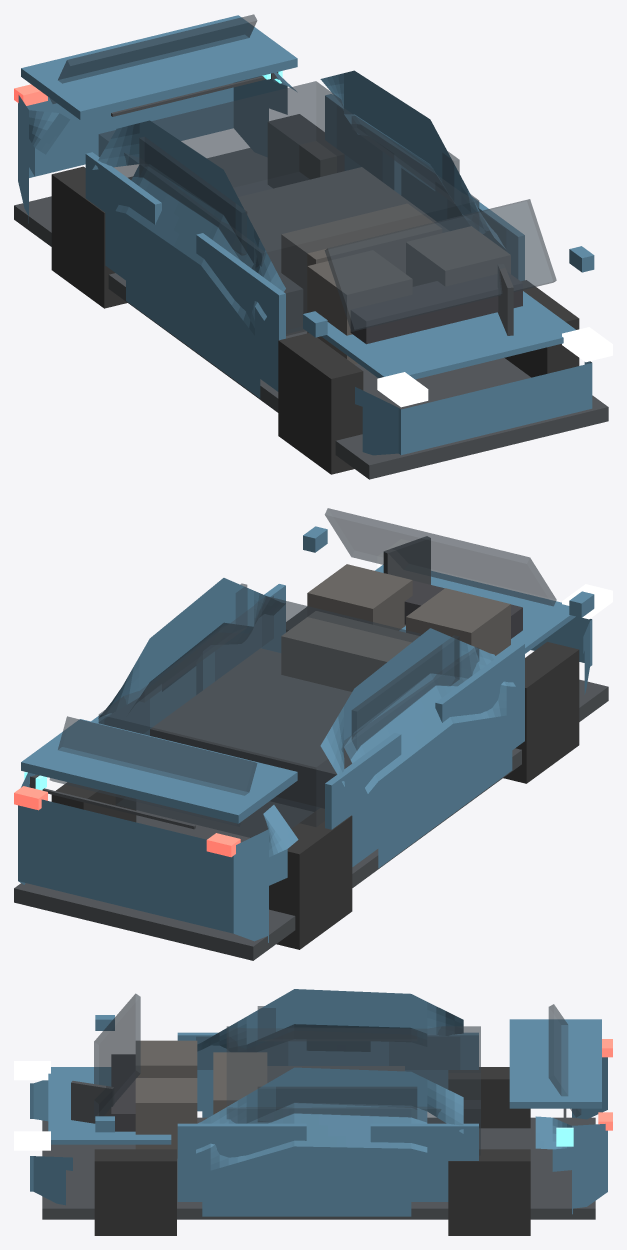
File: compact_sedan_lod.glb
3 renders of one model, top to bottom at view 1: azimuth 30°, elevation 25°; view 2: azimuth 150°, elevation 25°; view 3: azimuth 270°, elevation 25°, orthographic. The views are drawn at different scales.
Parts seen in each view (by area): view 1: body_mesh, cab_mesh, windshield, trunk_mesh, trim_mesh, frunk_mesh, tire_fr, wheel_well_mesh, seat_rear, tire_rr, dash, seat_r (+14 smaller); view 2: body_mesh, cab_mesh, wheel_well_mesh, trunk_mesh, trim_mesh, windshield, tire_rr, rear_glass, seat_rear, tire_fr, seat_l, door_rr_mesh (+14 smaller); view 3: body_mesh, cab_mesh, trim_mesh, trunk_mesh, tire_fl, tire_rl, window_fixed_l, door_rl_mesh, door_fl_mesh, frunk_mesh, windshield, seat_l (+14 smaller).
Boxes of the visible parts, <box> form: body_mesh: <box>18,70,592,455</box>; cab_mesh: <box>98,81,479,333</box>; windshield: <box>325,199,556,331</box>; trunk_mesh: <box>21,15,297,119</box>; trim_mesh: <box>14,148,608,479</box>; frunk_mesh: <box>321,291,575,379</box>; tire_fr: <box>278,333,363,474</box>; wheel_well_mesh: <box>238,167,448,335</box>; seat_rear: <box>281,203,441,313</box>; tire_rr: <box>51,166,127,308</box>; dash: <box>350,272,522,344</box>; seat_r: <box>307,250,412,364</box>; body_mesh: <box>18,578,592,942</box>; cab_mesh: <box>98,596,479,837</box>; wheel_well_mesh: <box>150,648,351,811</box>; trunk_mesh: <box>21,719,297,823</box>; trim_mesh: <box>14,679,608,960</box>; windshield: <box>325,508,556,606</box>; tire_rr: <box>269,808,352,949</box>; rear_glass: <box>49,716,257,826</box>; seat_rear: <box>281,611,419,691</box>; tire_fr: <box>503,641,579,783</box>; seat_l: <box>307,564,412,630</box>; door_rr_mesh: <box>325,733,401,866</box>; body_mesh: <box>30,989,607,1216</box>; cab_mesh: <box>226,1026,480,1155</box>; trim_mesh: <box>42,1117,595,1219</box>; trunk_mesh: <box>509,1019,601,1108</box>; tire_fl: <box>94,1149,176,1235</box>; tire_rl: <box>448,1149,530,1235</box>; window_fixed_l: <box>257,1086,417,1122</box>; door_rl_mesh: <box>370,1123,478,1201</box>; door_fl_mesh: <box>177,1123,306,1201</box>; frunk_mesh: <box>48,1067,171,1144</box>; windshield: <box>94,993,140,1118</box>; seat_l: <box>135,1078,197,1158</box>.
Bounding box in the file's own units: 2.04 × 1.44 × 4.87.
